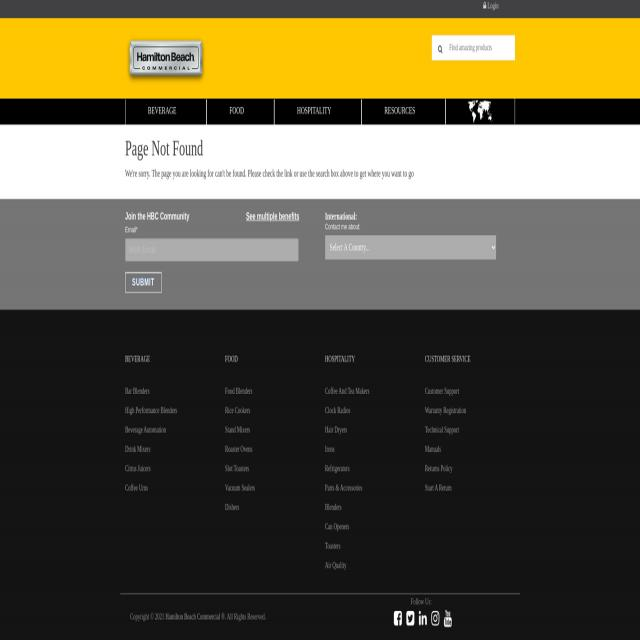button: (125, 35, 207, 86), (274, 99, 362, 124), (362, 99, 446, 124), (125, 99, 207, 124), (207, 99, 274, 124), (468, 100, 492, 122), (394, 610, 402, 626), (406, 610, 414, 626), (419, 610, 427, 626), (444, 610, 452, 626), (432, 609, 439, 626), (327, 262, 333, 272)
field: (325, 235, 496, 260), (125, 238, 298, 261), (432, 35, 514, 60), (125, 272, 161, 293)
